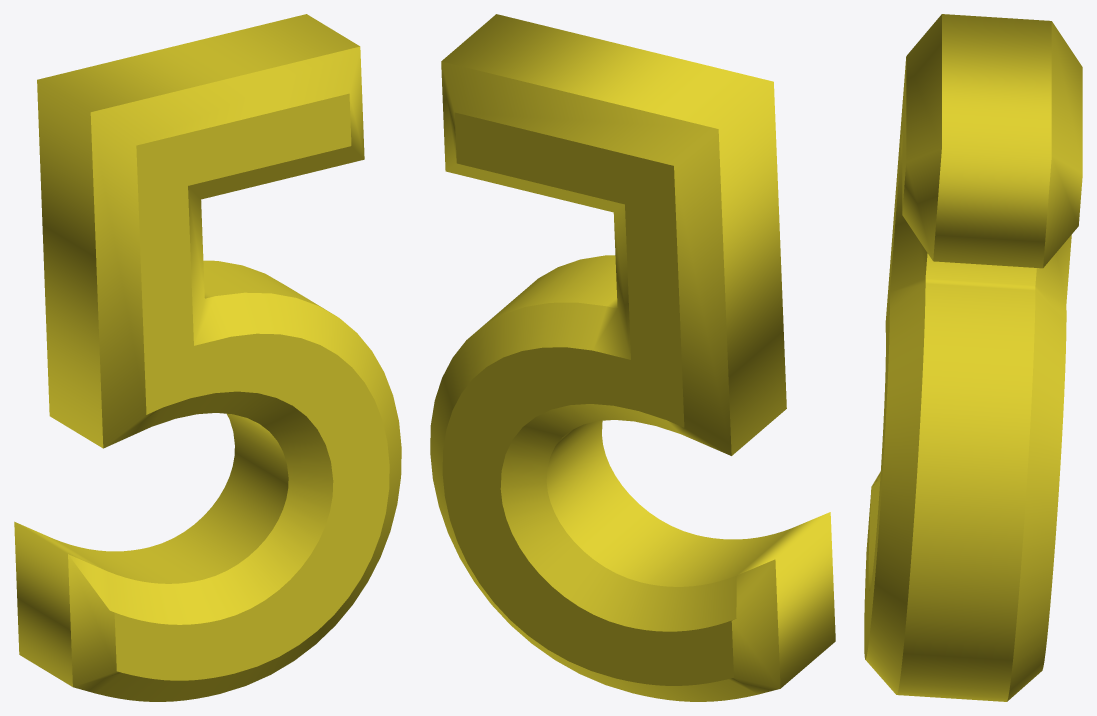
File: CINC.fbx
3 renders of one model, left to right at view 1: azimuth 30°, elevation 25°; view 2: azimuth 150°, elevation 25°; view 3: azimuth 270°, elevation 25°, orthographic. The views are drawn at different scales.
Visible parts, largest first — view 1: Text; view 2: Text; view 3: Text.
Boxes of the visible parts, x1,y1,x2,y2 form: Text: [14, 14, 401, 701]; Text: [430, 14, 835, 701]; Text: [864, 14, 1082, 701].
Bounding box in the file's own units: 43.8 × 74.77 × 24.21.
